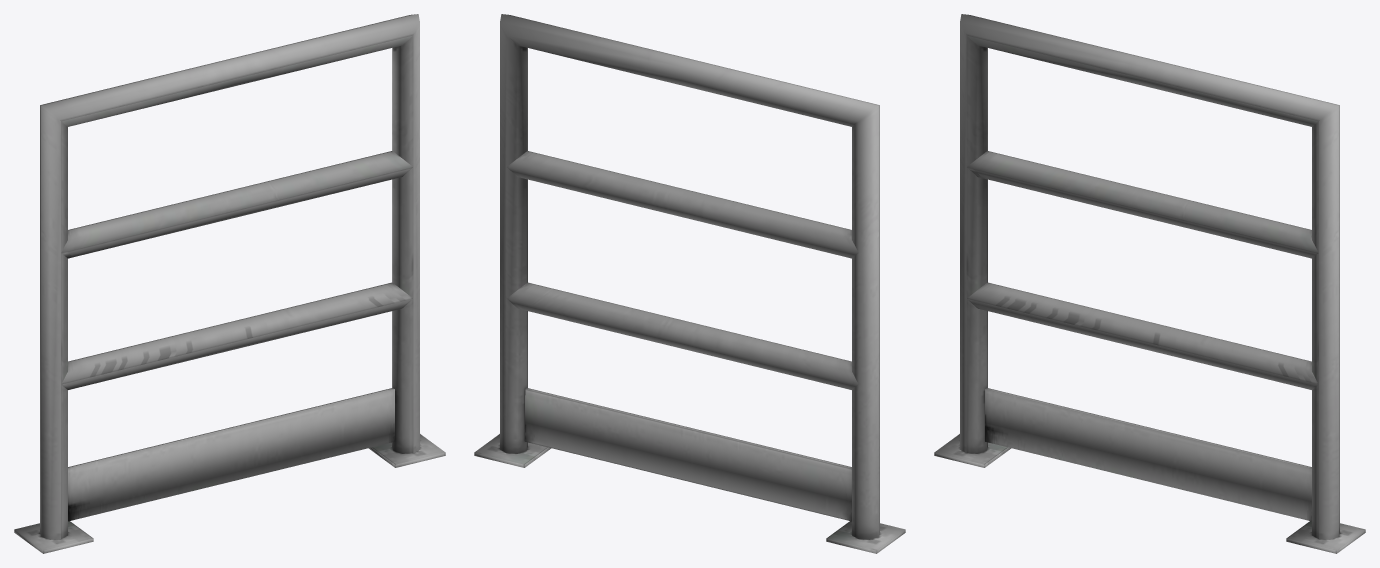
3 views of the same model, side by side, from view 1: azimuth 30°, elevation 25°; view 2: azimuth 150°, elevation 25°; view 3: azimuth 330°, elevation 25° (orthographic).
Parts seen in each view (by area): view 1: body0_model0_lod0_mesh0; view 2: body0_model0_lod0_mesh0; view 3: body0_model0_lod0_mesh0.
Part boxes in pixels (<box>): body0_model0_lod0_mesh0: <box>14,14,445,553</box>; body0_model0_lod0_mesh0: <box>474,14,905,553</box>; body0_model0_lod0_mesh0: <box>934,14,1365,553</box>.
Size of the model in its own units: 32 by 33 by 4.
Materials: 1 (1 with a texture image).
